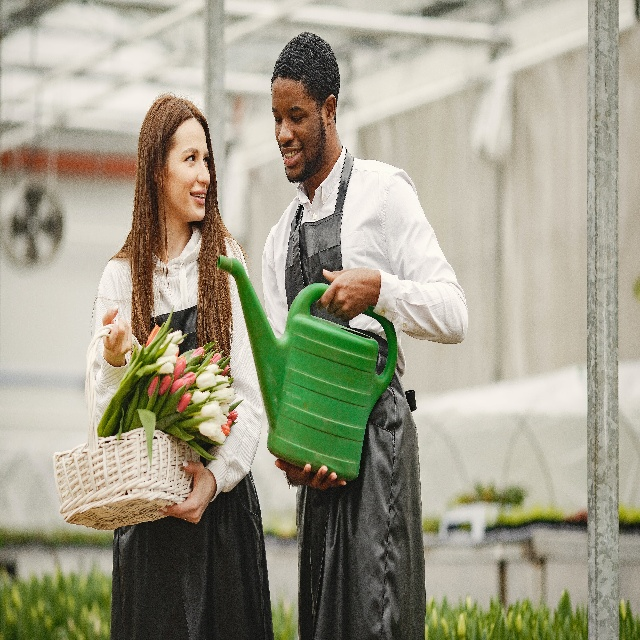Sin_guantes: (156, 460, 216, 524), (316, 266, 380, 322), (275, 458, 347, 492), (102, 304, 133, 357)
